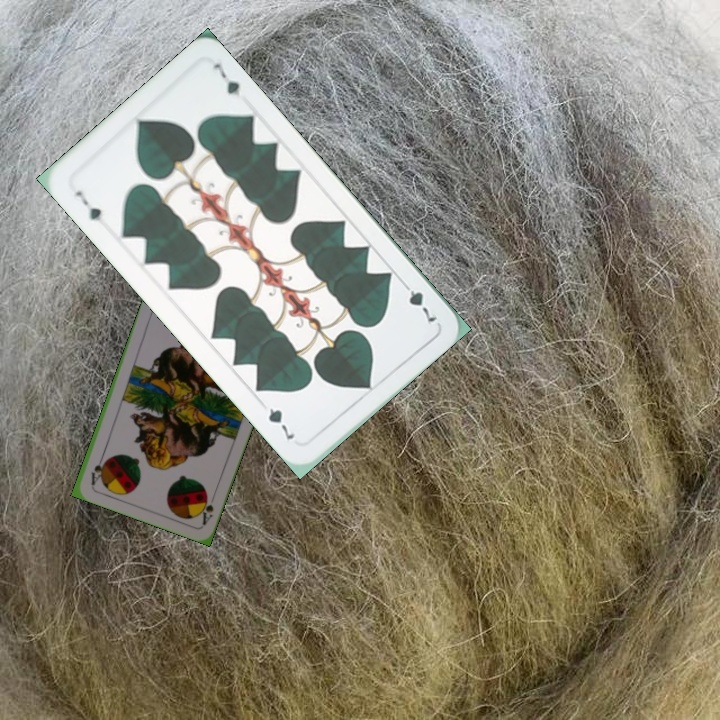G7: (397, 276, 440, 325), (71, 186, 104, 224)
SA: (196, 489, 216, 527)
